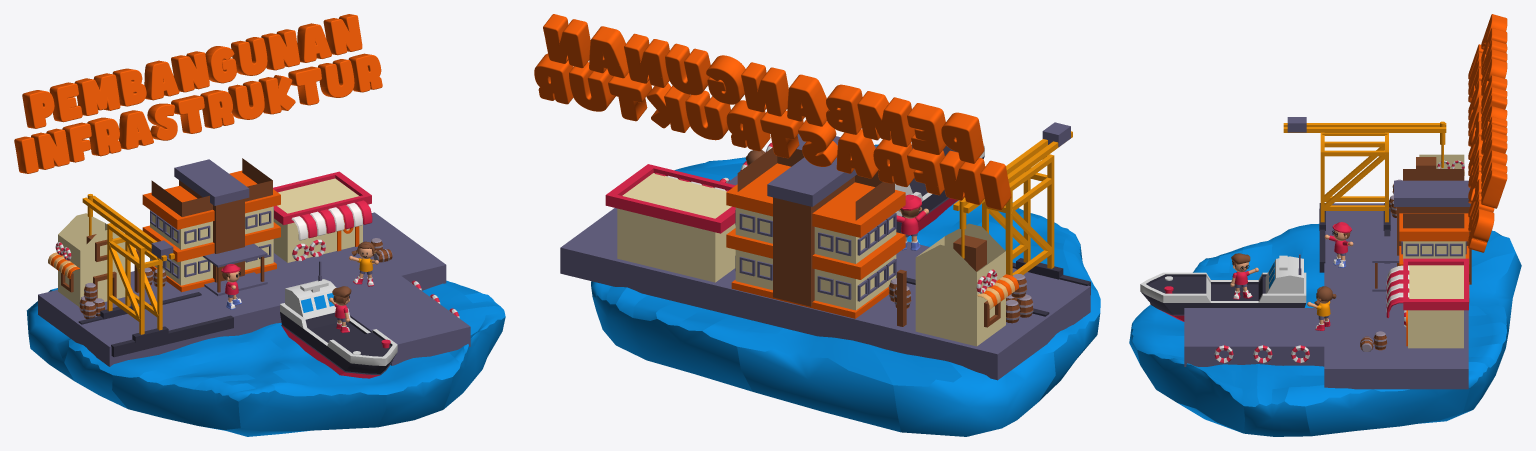
The picture shows the model from 3 angles, left to right: view 1: azimuth 30°, elevation 25°; view 2: azimuth 150°, elevation 25°; view 3: azimuth 270°, elevation 25°; orthographic projection. The views are drawn at different scales.
Visible parts, largest first — view 1: Plane, Text, Cube, Cube.005, Cube.074, Cube.073, Cube.090, Cube.075, Cube.088, Cube.089, Cube.017, Plane.003 (+14 smaller); view 2: Plane, Text, Cube, Cube.074, Cube.073, Cube.090, Cube.089, Cube.088, Cube.075, Cube.022, Cube.087, Plane.003 (+10 smaller); view 3: Plane, Cube, Text, Cube.074, Cube.005, Cube.075, Plane.003, Cube.023, Cube.088, Cube.006, Cube.027, Cube.090 (+10 smaller).
Boxes of the visible parts, left/top/right/bottom form: Plane: left=26, top=280, right=505, bottom=436; Text: left=14, top=14, right=382, bottom=173; Cube: left=38, top=212, right=470, bottom=366; Cube.005: left=280, top=303, right=397, bottom=378; Cube.074: left=273, top=171, right=371, bottom=262; Cube.073: left=58, top=213, right=125, bottom=306; Cube.090: left=150, top=206, right=273, bottom=285; Cube.075: left=174, top=159, right=249, bottom=205; Cube.088: left=142, top=170, right=280, bottom=229; Cube.089: left=179, top=180, right=244, bottom=282; Cube.017: left=78, top=292, right=233, bottom=357; Plane.003: left=151, top=158, right=272, bottom=216; Plane: left=591, top=144, right=1100, bottom=436; Text: left=534, top=14, right=1011, bottom=210; Cube: left=560, top=133, right=1090, bottom=380; Cube.074: left=605, top=164, right=735, bottom=282; Cube.073: left=915, top=223, right=1005, bottom=346; Cube.090: left=735, top=207, right=896, bottom=310; Cube.089: left=773, top=176, right=854, bottom=306; Cube.088: left=726, top=163, right=905, bottom=237; Cube.075: left=767, top=157, right=856, bottom=206; Cube.022: left=1005, top=154, right=1054, bottom=275; Cube.087: left=726, top=228, right=905, bottom=279; Plane.003: left=737, top=147, right=894, bottom=220; Plane: left=1129, top=224, right=1521, bottom=436; Cube: left=1184, top=203, right=1468, bottom=389; Text: left=1468, top=14, right=1507, bottom=252; Cube.074: left=1403, top=258, right=1468, bottom=348; Cube.005: left=1140, top=272, right=1306, bottom=321; Cube.075: left=1394, top=180, right=1470, bottom=206; Plane.003: left=1403, top=169, right=1464, bottom=228; Cube.023: left=1320, top=132, right=1388, bottom=222; Cube.088: left=1399, top=213, right=1469, bottom=241; Cube.006: left=1265, top=256, right=1303, bottom=293; Cube.027: left=1283, top=127, right=1446, bottom=132; Cube.090: left=1403, top=241, right=1465, bottom=261.
Bounding box in the file's own units: 0.3572 × 0.2423 × 0.3214.
